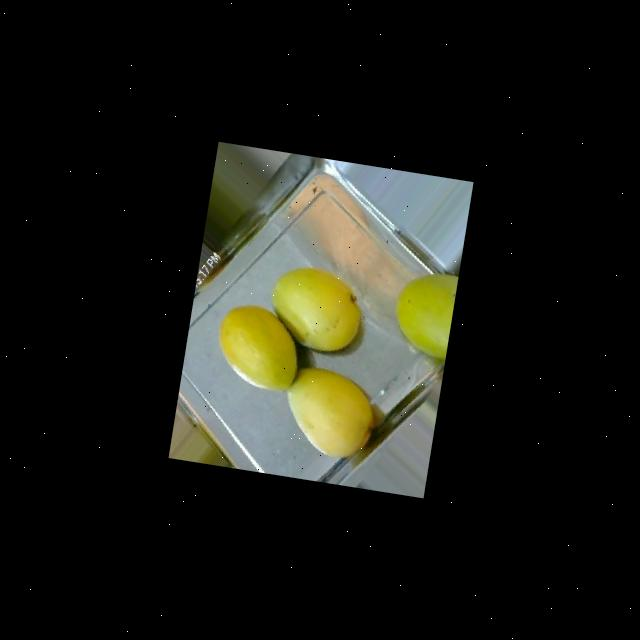Mango: (276, 363, 379, 462), (262, 262, 366, 356), (209, 300, 305, 394), (387, 266, 457, 361)
